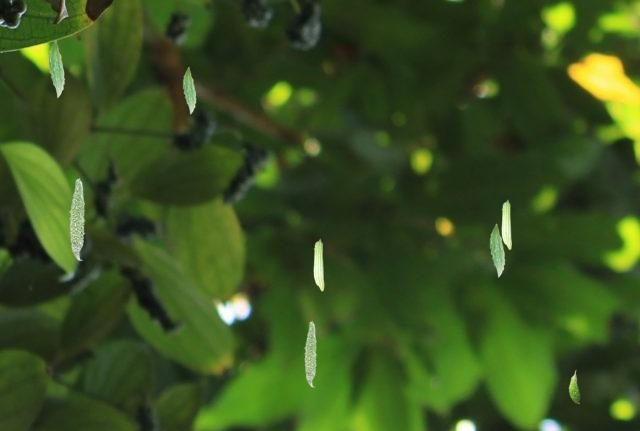ampalaya: (69, 177, 85, 261), (48, 39, 65, 98), (304, 320, 317, 387), (489, 223, 505, 277), (182, 66, 196, 114), (313, 238, 324, 291), (501, 199, 512, 250), (568, 369, 580, 404)
